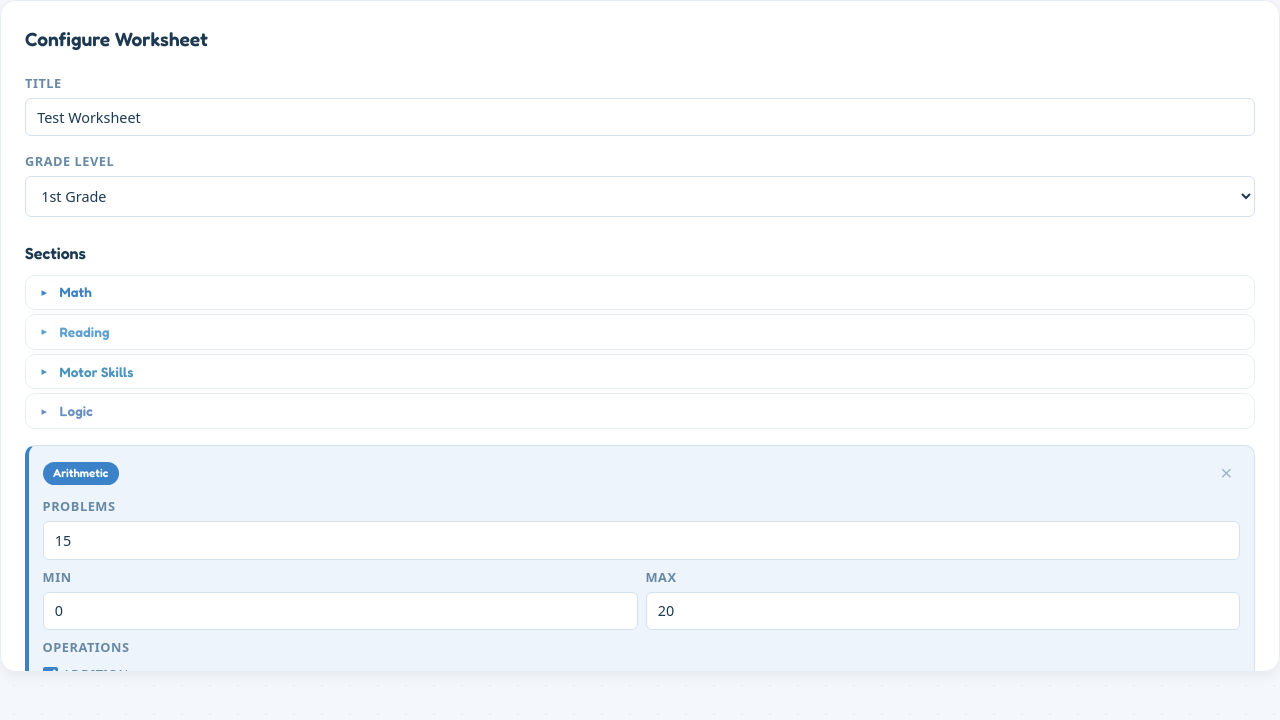
Test: ConfigPanel › renders add section buttons after expanding categories
This screenshot has width=1280, height=720.
Click the text "Math" at (76, 292), box top-left (60, 284), bottom-right (92, 300)
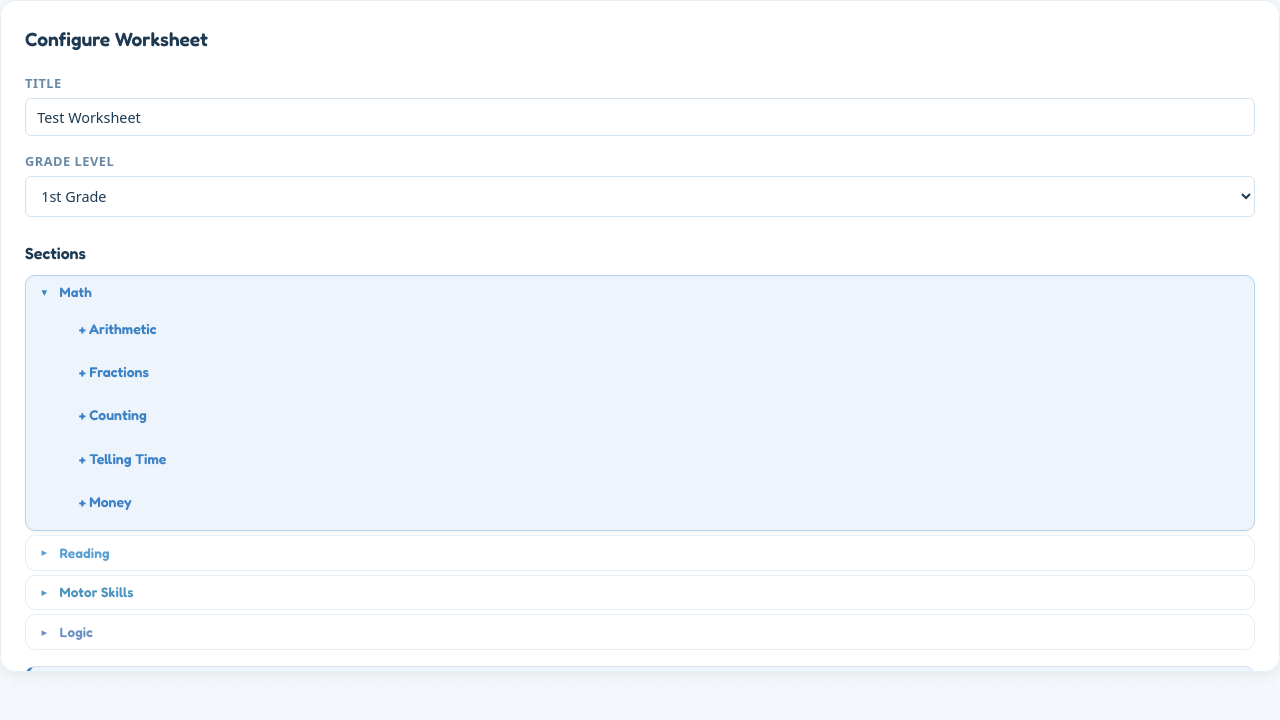
Check: the button "+ Arithmetic" is shown, box top-left (60, 309), bottom-right (176, 347)
Click the text "Motor Skills" at (97, 592), box top-left (60, 584), bottom-right (134, 600)
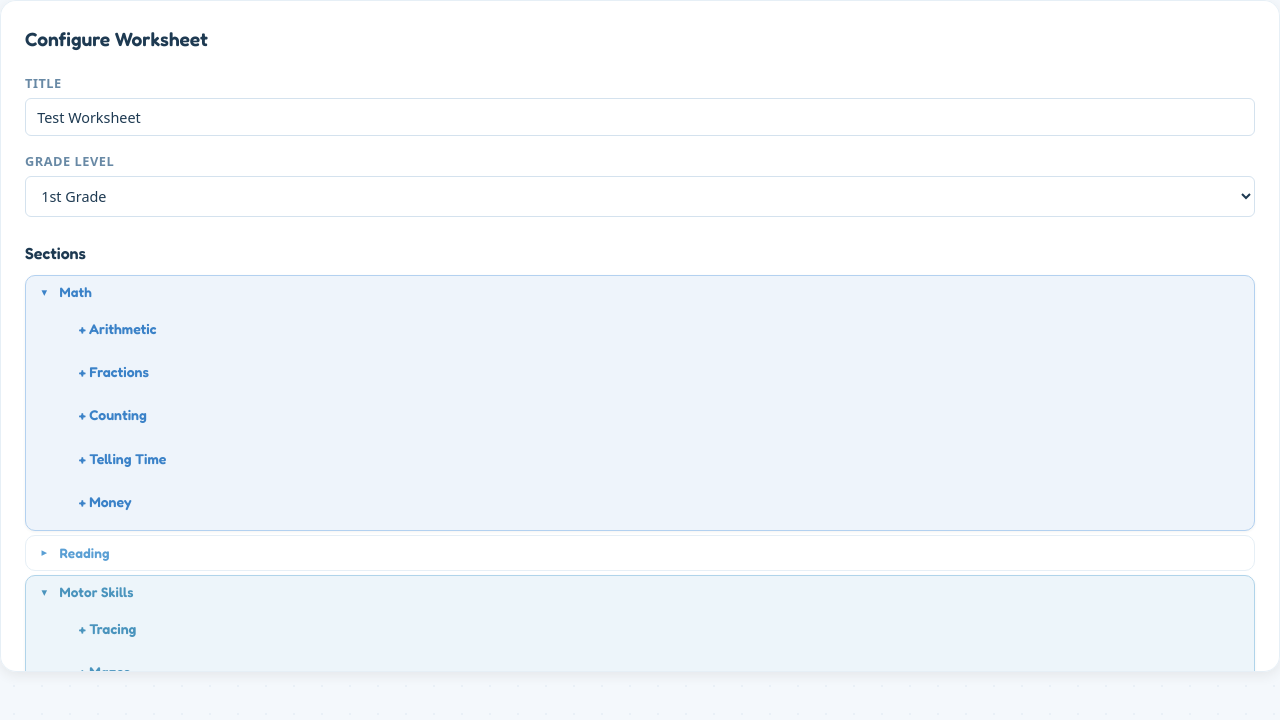
Check: the button "+ Tracing" is shown, box top-left (60, 609), bottom-right (156, 647)
Click the text "Reading" at (85, 553), box top-left (60, 545), bottom-right (110, 561)
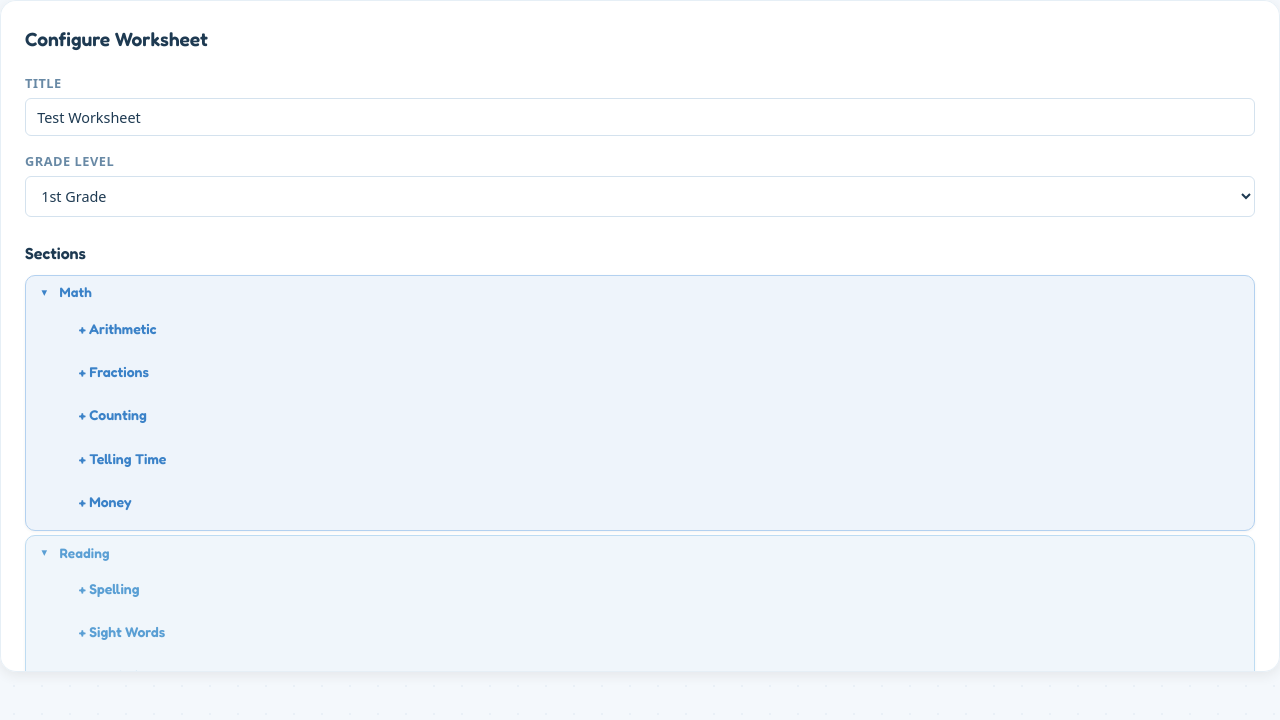
Check: the button "+ Spelling" is shown, box top-left (60, 570), bottom-right (159, 607)
